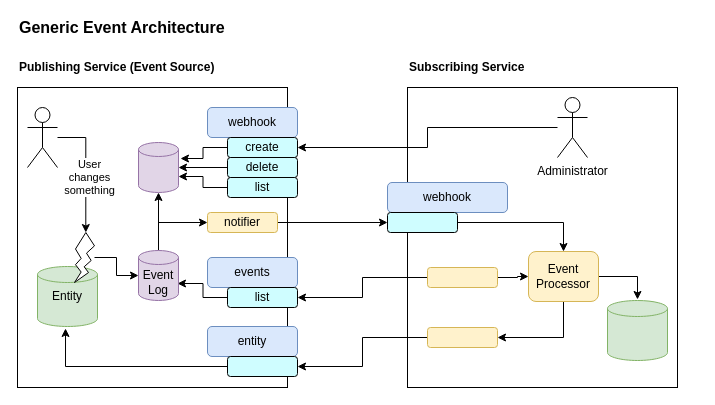
Image size: 715x405. Some labels were removed from this diagram. The box of each missing label's shape, as (x1, y1, x2, y2) in pixels:
entity client: (426, 326, 498, 348)
Entity Copy: (606, 300, 668, 360)
event client: (426, 266, 498, 288)
get: (226, 356, 298, 376)
receive: (386, 212, 458, 232)
User: (26, 106, 58, 168)
Web Hooks: (138, 142, 178, 192)
